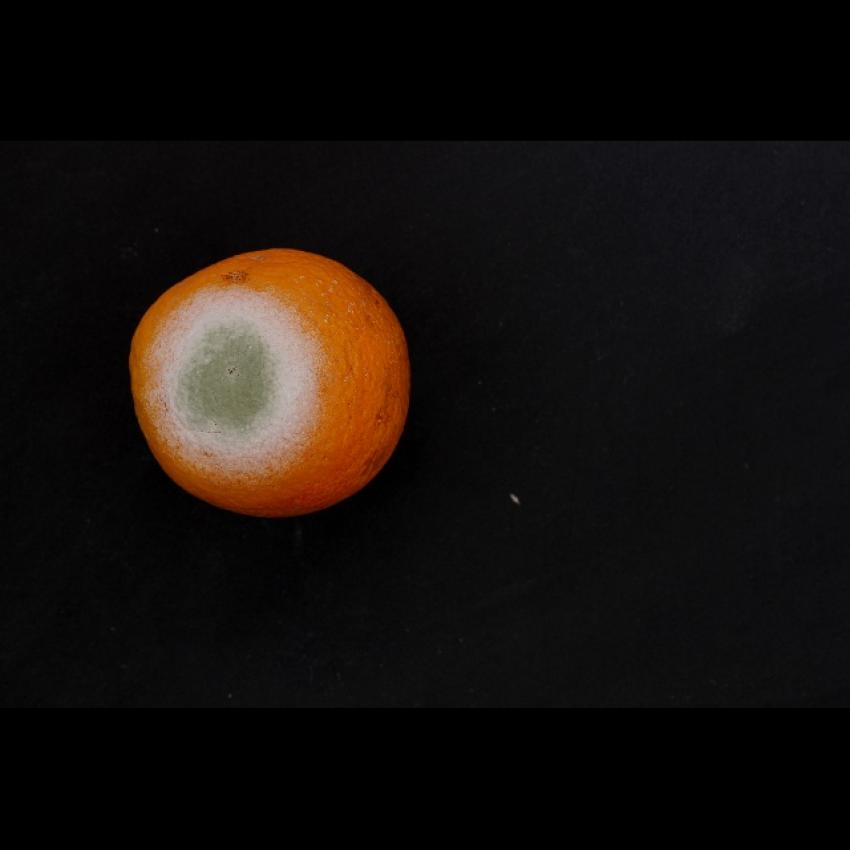Mal estado: (119, 240, 427, 526)
